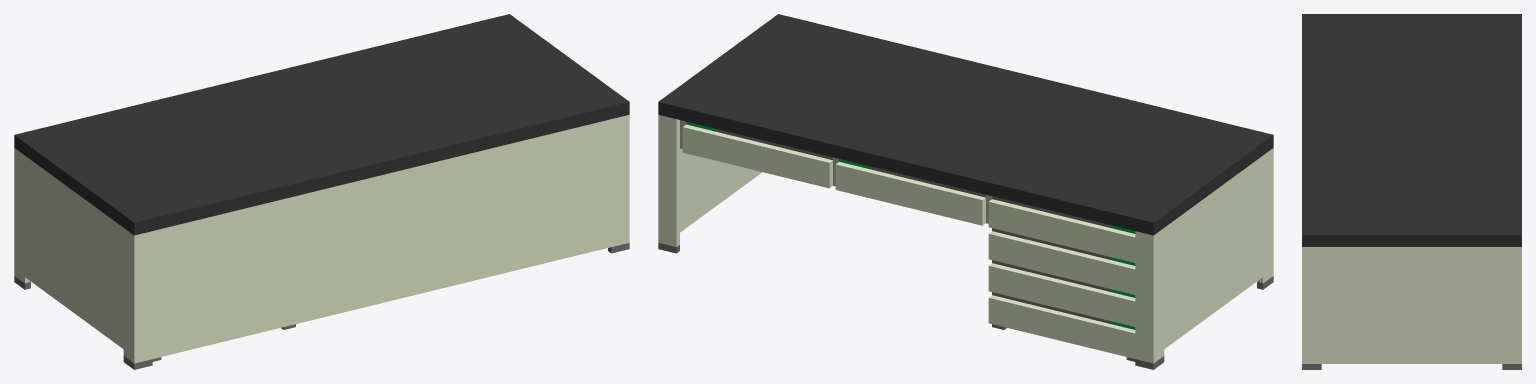
Rendered from Desk2-7.fbx.
3 renders of one model, left to right at view 1: azimuth 30°, elevation 25°; view 2: azimuth 150°, elevation 25°; view 3: azimuth 270°, elevation 25°, orthographic. The views are drawn at different scales.
Parts seen in each view (by area): view 1: Desk2-7.001; view 2: Desk2-7.001, Desk2-7; view 3: Desk2-7.001.
Boxes of the visible parts, bbox=[...] form: Desk2-7.001: bbox=[14, 14, 629, 369]; Desk2-7.001: bbox=[658, 14, 1273, 369]; Desk2-7: bbox=[988, 228, 1135, 361]; Desk2-7.001: bbox=[1302, 14, 1521, 369].
Size of the model in its own units: 8.1 by 2.3 by 3.4.
